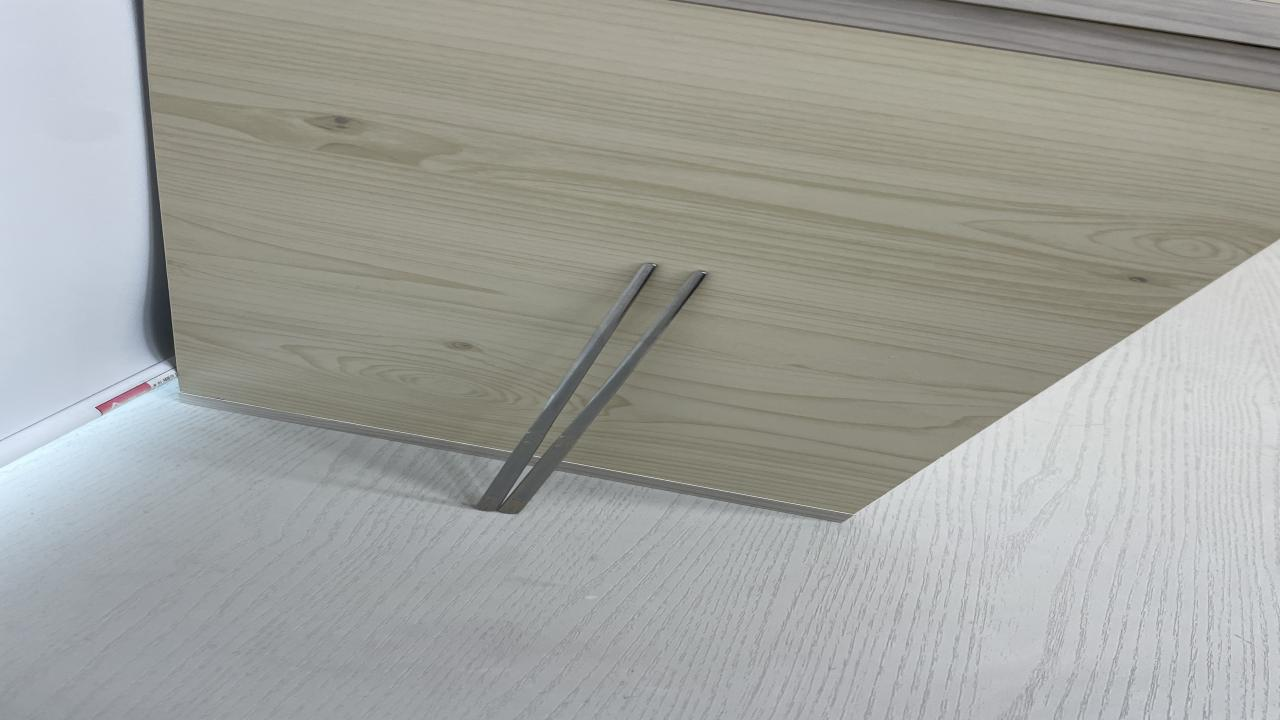chopstick: (466, 262, 710, 518)
